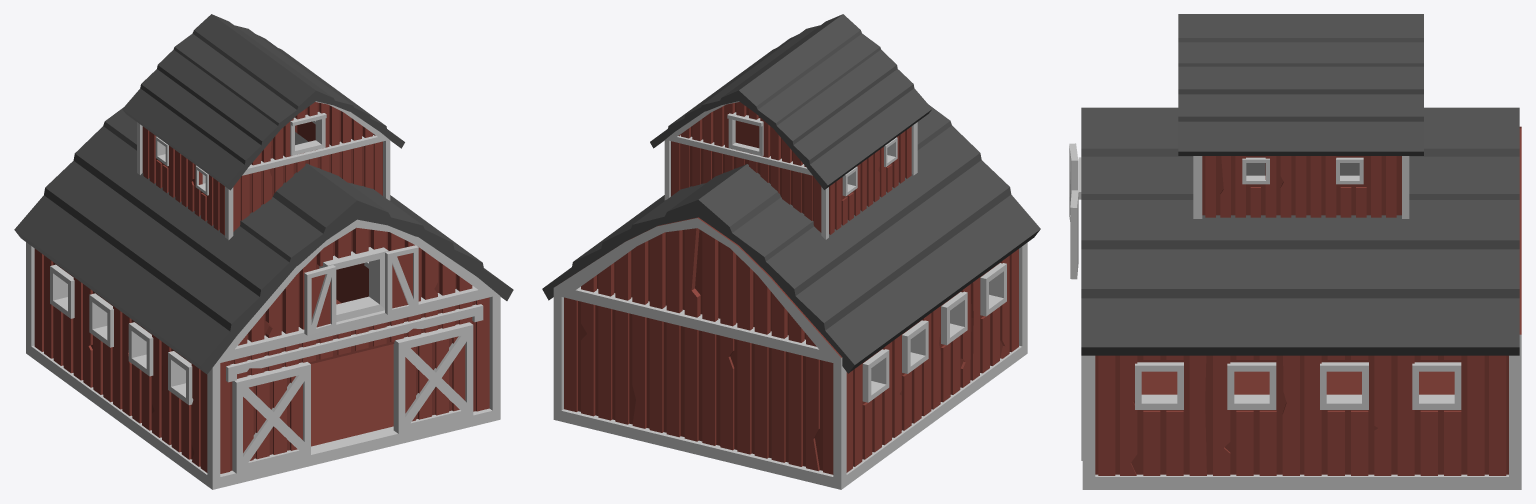
File: quaternius-farm-buildings-bigbarn.glb
The picture shows the model from 3 angles, left to right: view 1: azimuth 30°, elevation 25°; view 2: azimuth 150°, elevation 25°; view 3: azimuth 270°, elevation 25°; orthographic projection. The views are drawn at different scales.
Parts seen in each view (by area): view 1: BigBarn; view 2: BigBarn; view 3: BigBarn.
Boxes of the visible parts, x1,y1,x2,y2 form: BigBarn: [14, 14, 513, 489]; BigBarn: [542, 14, 1040, 489]; BigBarn: [1069, 14, 1521, 489].
Bounding box in the file's own units: 7.73 × 7.89 × 8.22.
